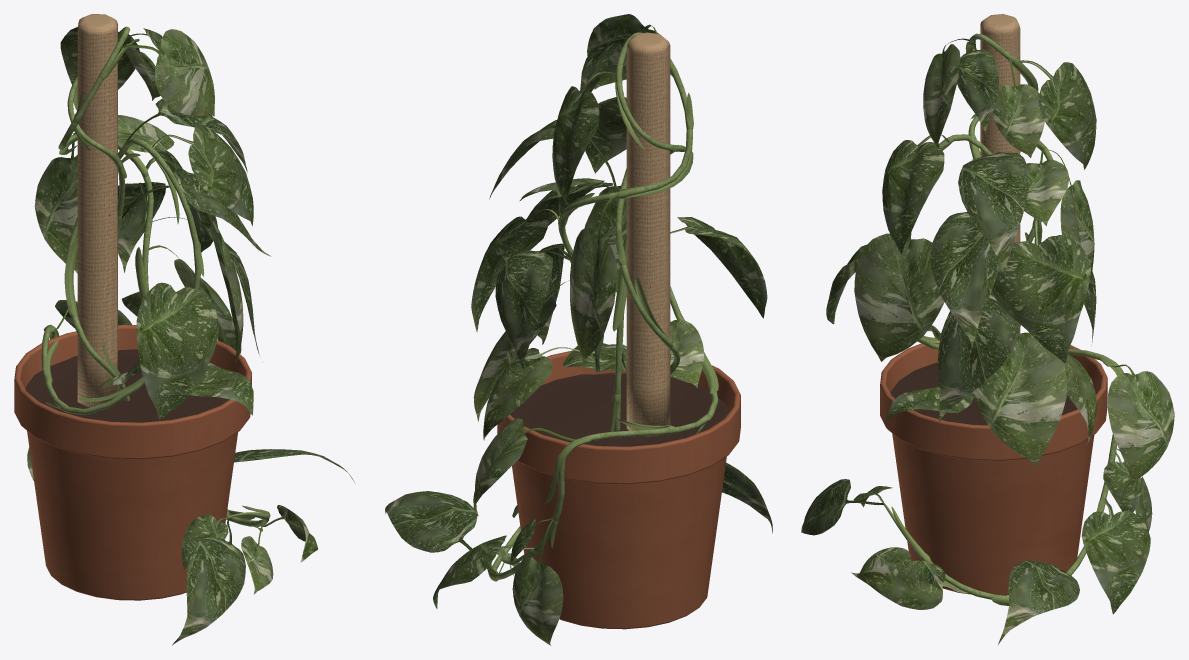
The model's file is plant-pothos-hanging.glb.
3 renders of one model, left to right at view 1: azimuth 30°, elevation 25°; view 2: azimuth 150°, elevation 25°; view 3: azimuth 270°, elevation 25°, orthographic. The views are drawn at different scales.
Parts seen in each view (by area): view 1: epipremnum pinnatum; view 2: epipremnum pinnatum; view 3: epipremnum pinnatum.
Part boxes in pixels (bbox=[...]): epipremnum pinnatum: bbox=[14, 14, 354, 645]; epipremnum pinnatum: bbox=[385, 14, 772, 645]; epipremnum pinnatum: bbox=[801, 14, 1174, 645].
Size of the model in its own units: 0.2202 by 0.3525 by 0.2265.
5 materials, 5 textured.
